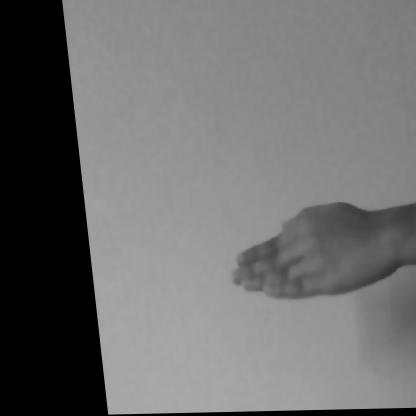palm: (205, 187, 406, 335)
